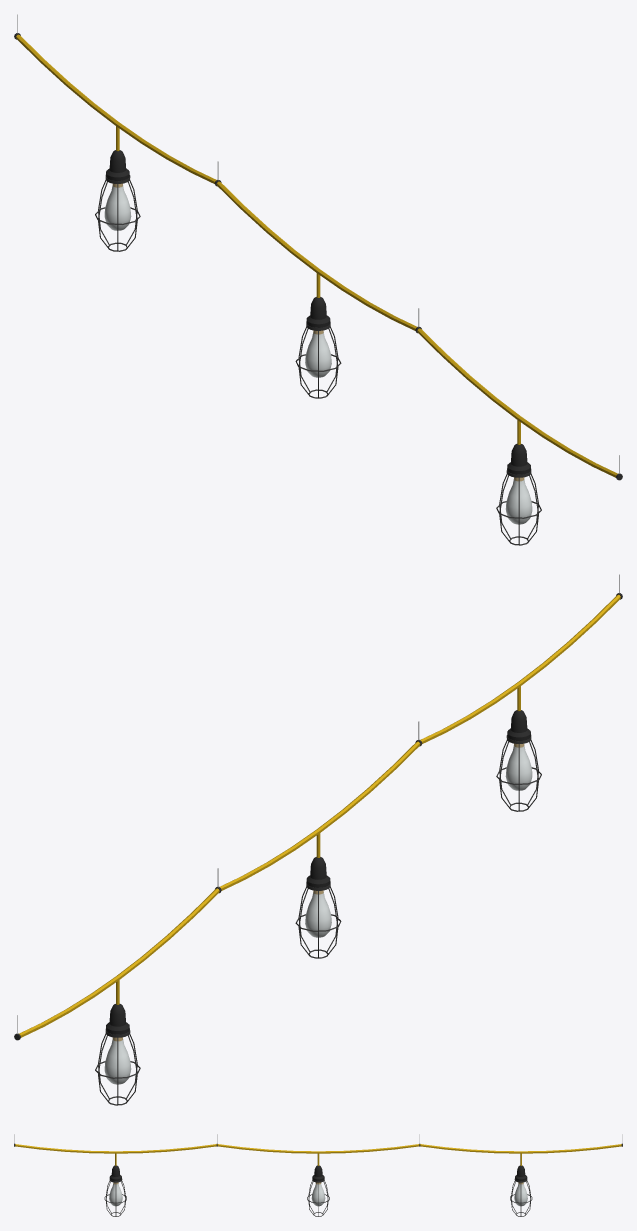
File: Kit_TempLightString_Dead.fbx
The picture shows the model from 3 angles, top to bottom: view 1: azimuth 30°, elevation 25°; view 2: azimuth 150°, elevation 25°; view 3: azimuth 270°, elevation 25°; orthographic projection. The views are drawn at different scales.
Visible parts, largest first — view 1: Kit_TempLightString_Dead_LOD0; view 2: Kit_TempLightString_Dead_LOD0; view 3: Kit_TempLightString_Dead_LOD0.
Boxes of the visible parts, x1=… form: Kit_TempLightString_Dead_LOD0: x1=14, y1=14, x2=622, y2=545; Kit_TempLightString_Dead_LOD0: x1=14, y1=574, x2=622, y2=1105; Kit_TempLightString_Dead_LOD0: x1=14, y1=1134, x2=622, y2=1216.
Size of what is drawn, in the model's own units: 0.1153 by 0.439 by 3.01.
